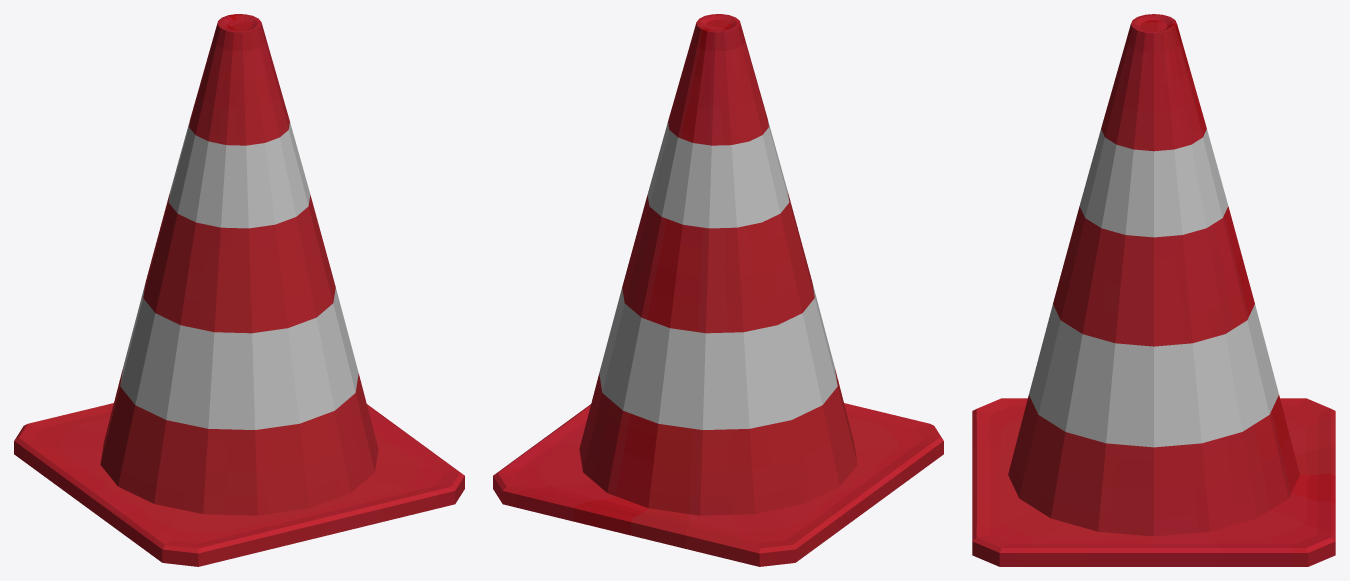
Rendered from Roadblock_Cone.fbx.
3 views of the same model, side by side, from view 1: azimuth 30°, elevation 25°; view 2: azimuth 150°, elevation 25°; view 3: azimuth 270°, elevation 25° (orthographic). The views are drawn at different scales.
Visible parts, largest first — view 1: SM_City_Roadblock_Cone_01.mo; view 2: SM_City_Roadblock_Cone_01.mo; view 3: SM_City_Roadblock_Cone_01.mo.
Boxes of the visible parts, left/top/right/bottom form: SM_City_Roadblock_Cone_01.mo: left=14, top=14, right=464, bottom=566; SM_City_Roadblock_Cone_01.mo: left=493, top=14, right=943, bottom=566; SM_City_Roadblock_Cone_01.mo: left=972, top=14, right=1335, bottom=566.
Size of the model in its own units: 40.23 by 57 by 40.23.
